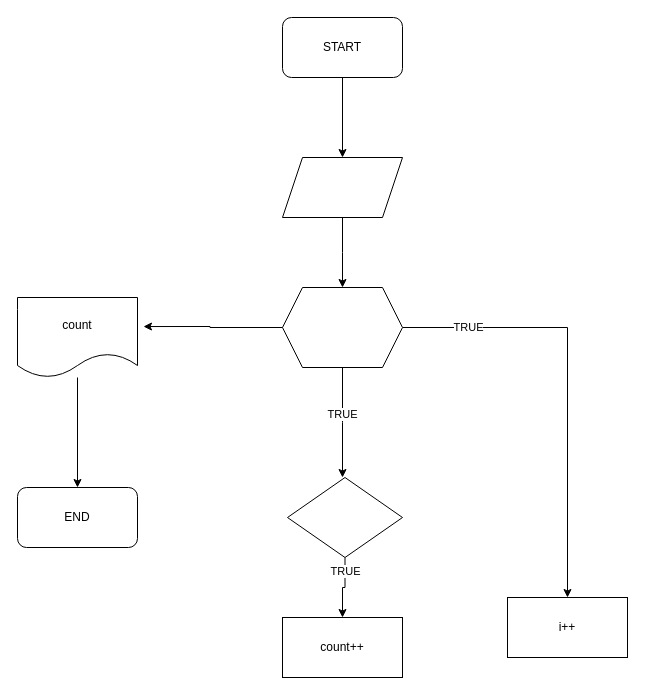
Image size: 645x695. Some labels were removed from this diagram. Each missing label, with the box of its shape:
i % 3 == 0 && i % 4 == 0: (286, 476, 402, 558)
i >= num1 && i <= num2: (282, 286, 402, 368)
num1, num2, i = 1 count = 0: (282, 156, 402, 218)
